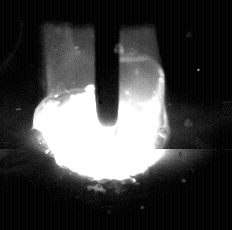arame: (95, 0, 120, 126)
poca: (31, 0, 169, 230)
